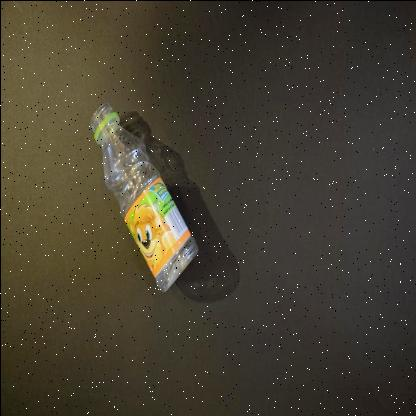Plastic Bottle: (89, 102, 196, 291)
